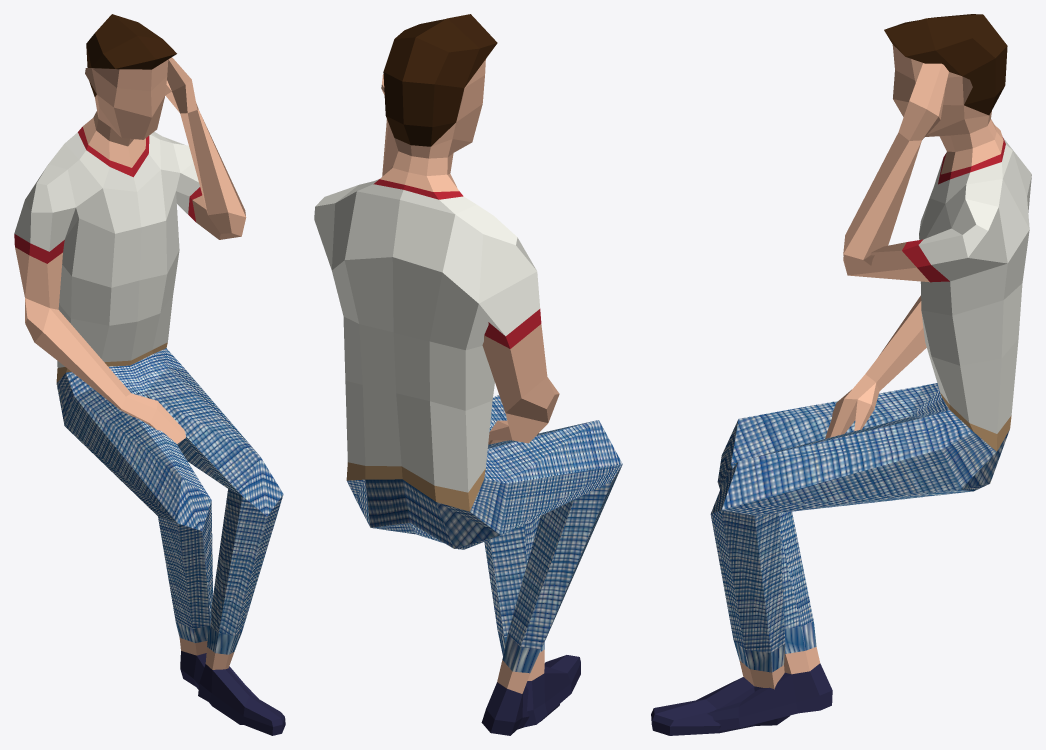
Rendered from SpringManB.010.glb.
The picture shows the model from 3 angles, left to right: view 1: azimuth 30°, elevation 25°; view 2: azimuth 150°, elevation 25°; view 3: azimuth 270°, elevation 25°; orthographic projection. The views are drawn at different scales.
Parts seen in each view (by area): view 1: SpringManB.011; view 2: SpringManB.011; view 3: SpringManB.011.
Part boxes in pixels (bbox=[...]): SpringManB.011: bbox=[14, 14, 285, 735]; SpringManB.011: bbox=[314, 14, 622, 735]; SpringManB.011: bbox=[651, 14, 1031, 735].
Bounding box in the file's own units: 0.4417 × 1.42 × 0.6919.
Materials: 1 (1 with a texture image).
